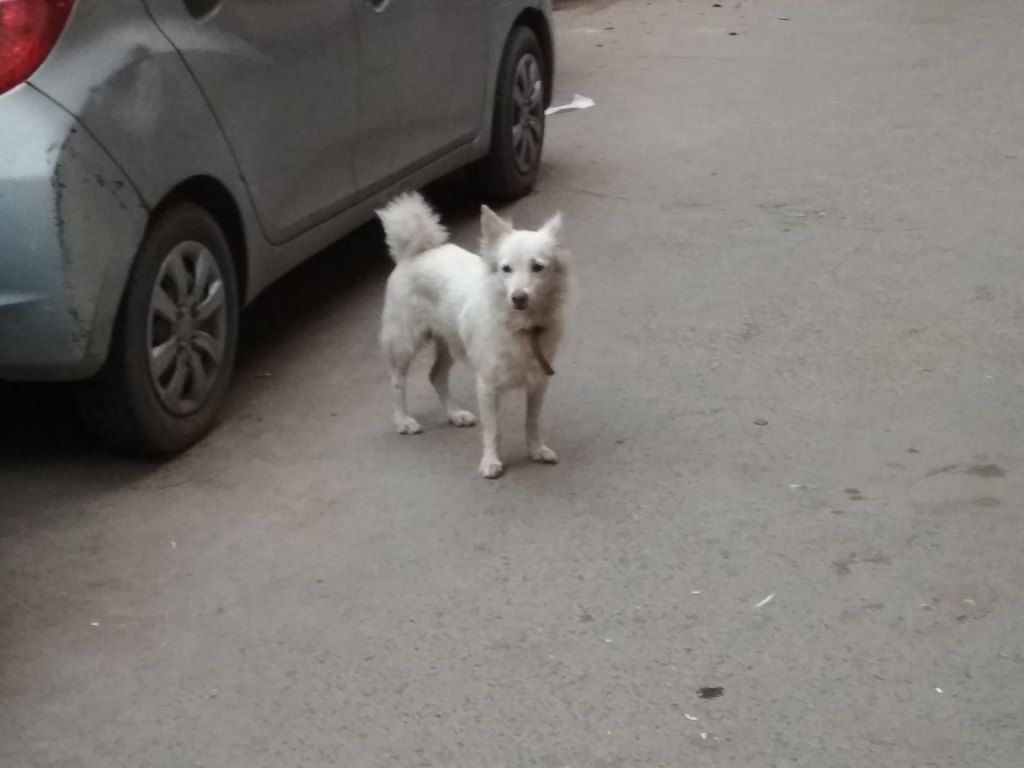dog: (375, 190, 572, 478)
